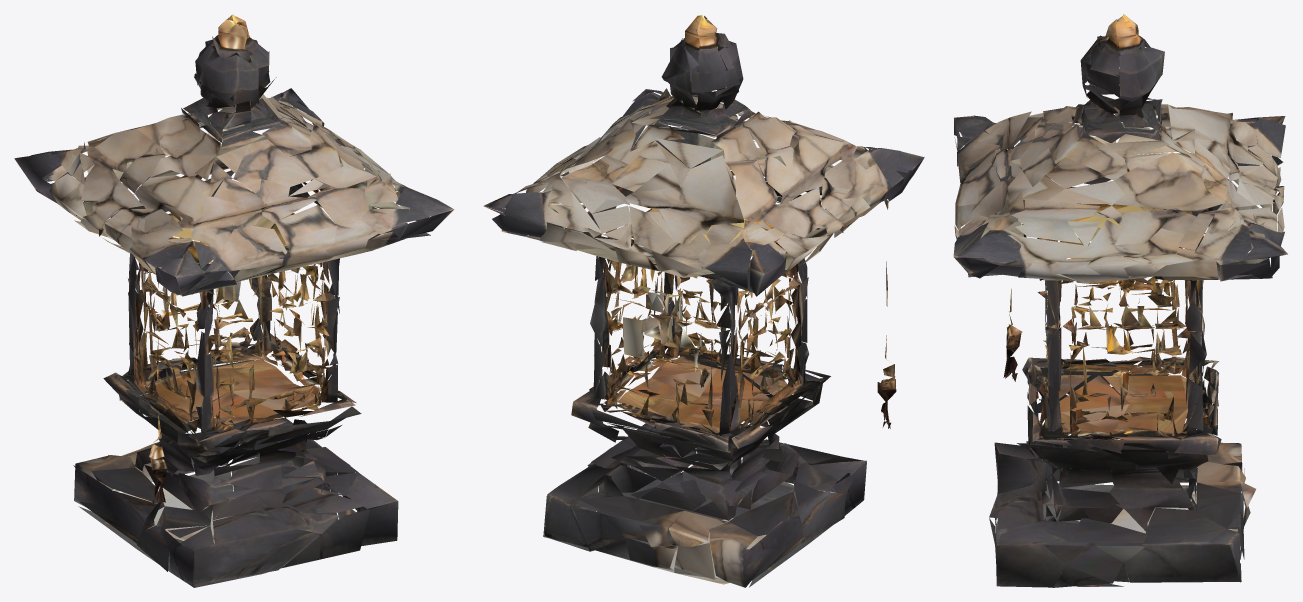
Rendered from Stone_Lantern_town.glb.
3 renders of one model, left to right at view 1: azimuth 30°, elevation 25°; view 2: azimuth 150°, elevation 25°; view 3: azimuth 270°, elevation 25°, orthographic. The views are drawn at different scales.
Parts seen in each view (by area): view 1: Stone_Lantern; view 2: Stone_Lantern; view 3: Stone_Lantern.
Boxes of the visible parts, box(x1,y1,x2,y2) form: Stone_Lantern: box(14, 14, 454, 587); Stone_Lantern: box(483, 14, 924, 587); Stone_Lantern: box(953, 14, 1287, 587).
Bounding box in the file's own units: 1.15 × 1.99 × 1.16.
1 material, 1 textured.
